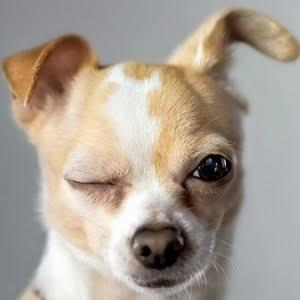adult_dog: (3, 4, 300, 299)
